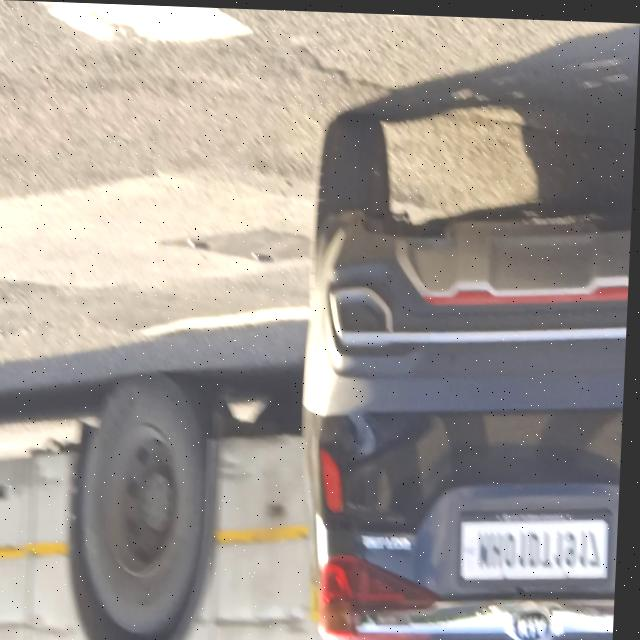plate: (464, 499, 620, 585)
